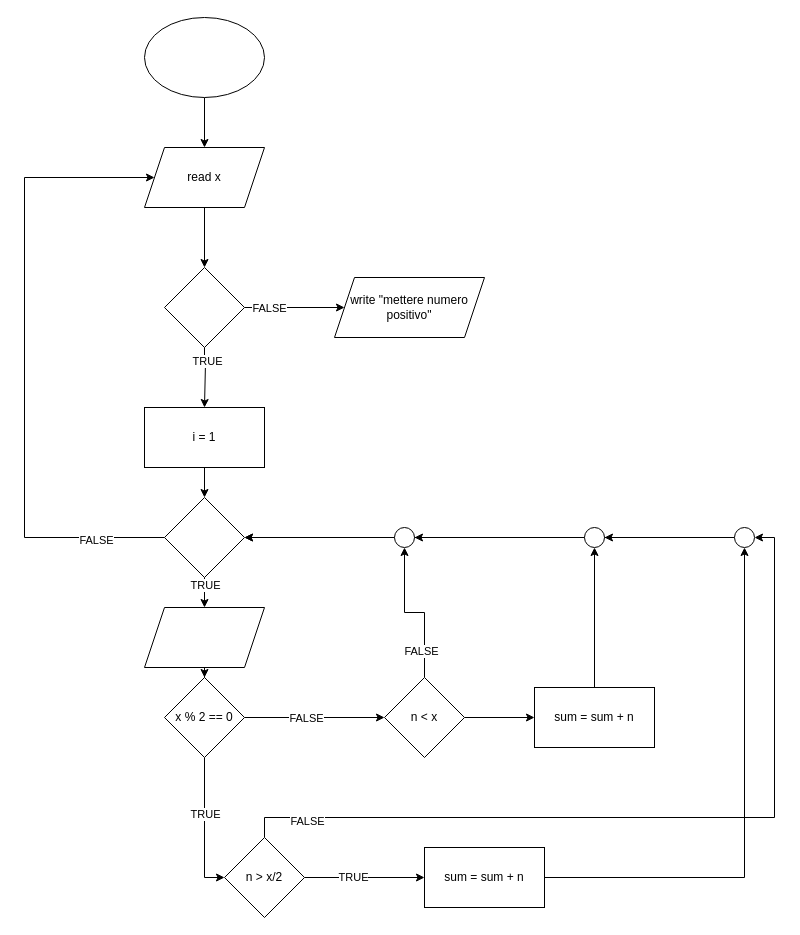
The diagram is 800 pixels wide and 935 high, and some of its shapes have lost their labels. Each missing label, with the centre of its shape:
i < 10: (204,537)
read n: (204,637)
START: (204,57)
x >= 0: (204,307)
